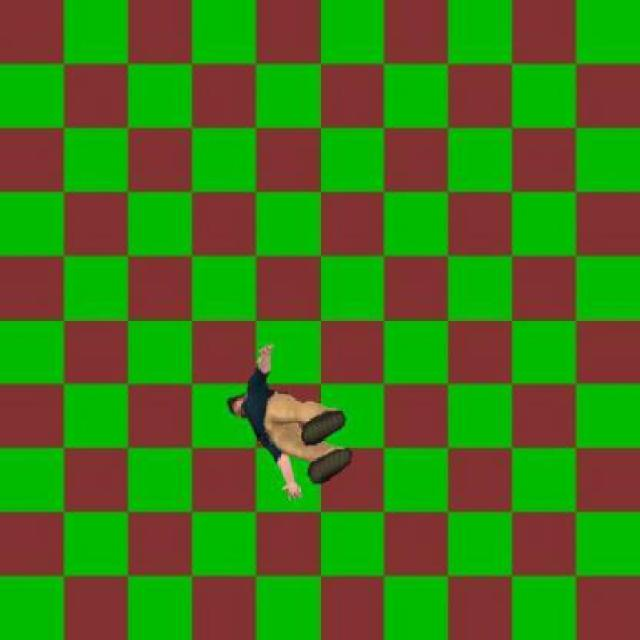Person: (226, 336, 356, 507)
